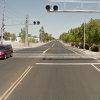Traffic light: (37, 3, 64, 15)
